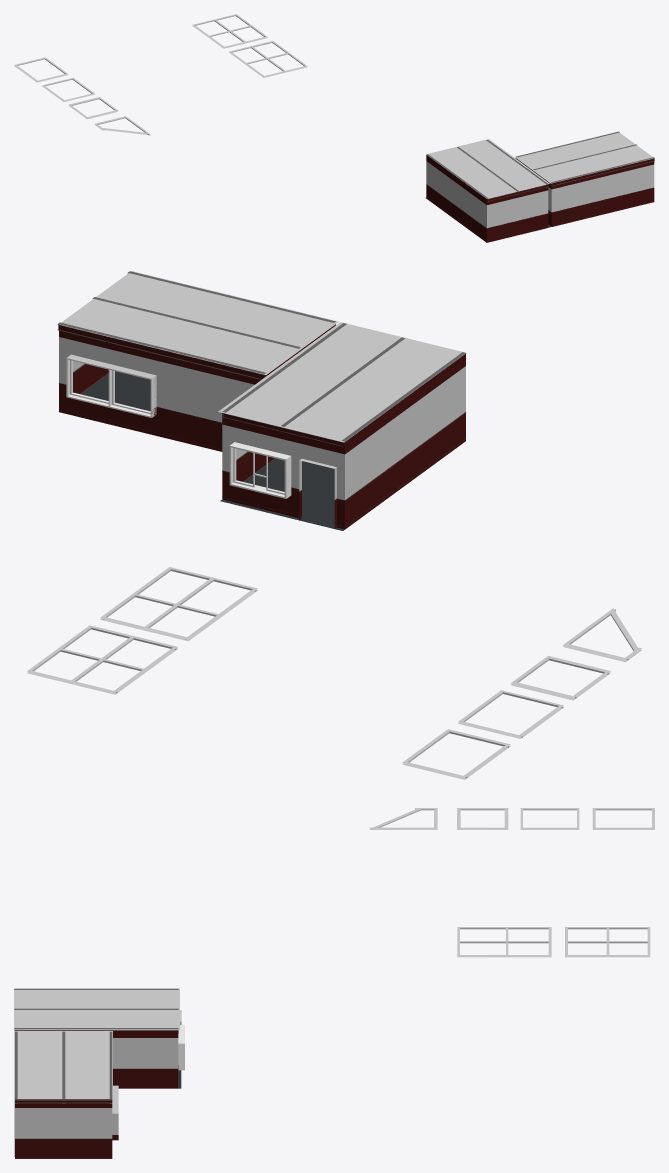
The model's file is SM_H_Building_Tide_InterrogationRoom_13P_ATLAS.fbx.
The picture shows the model from 3 angles, top to bottom: view 1: azimuth 30°, elevation 25°; view 2: azimuth 150°, elevation 25°; view 3: azimuth 270°, elevation 25°; orthographic projection. The views are drawn at different scales.
Visible parts, largest first — view 1: SM_H_Building_Tide_InterrogationRoom_13P_ATLAS; view 2: SM_H_Building_Tide_InterrogationRoom_13P_ATLAS; view 3: SM_H_Building_Tide_InterrogationRoom_13P_ATLAS.
Boxes of the visible parts, bbox=[...] form: SM_H_Building_Tide_InterrogationRoom_13P_ATLAS: bbox=[14, 14, 654, 242]; SM_H_Building_Tide_InterrogationRoom_13P_ATLAS: bbox=[27, 271, 641, 779]; SM_H_Building_Tide_InterrogationRoom_13P_ATLAS: bbox=[14, 808, 654, 1158].
Bounding box in the file's own units: 3678 × 3735 × 542.
